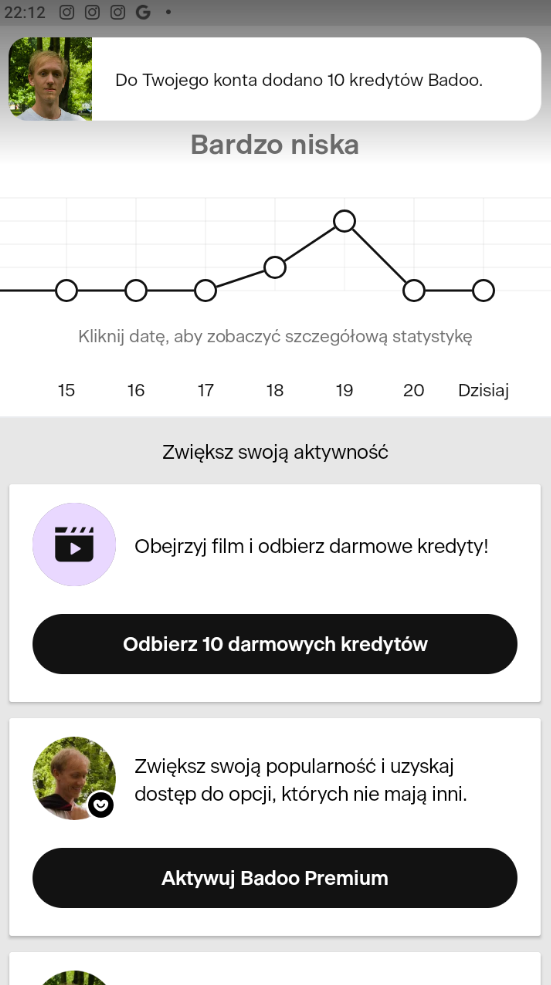kupno_button: (34, 844, 519, 913)
start_button: (34, 611, 521, 676)
